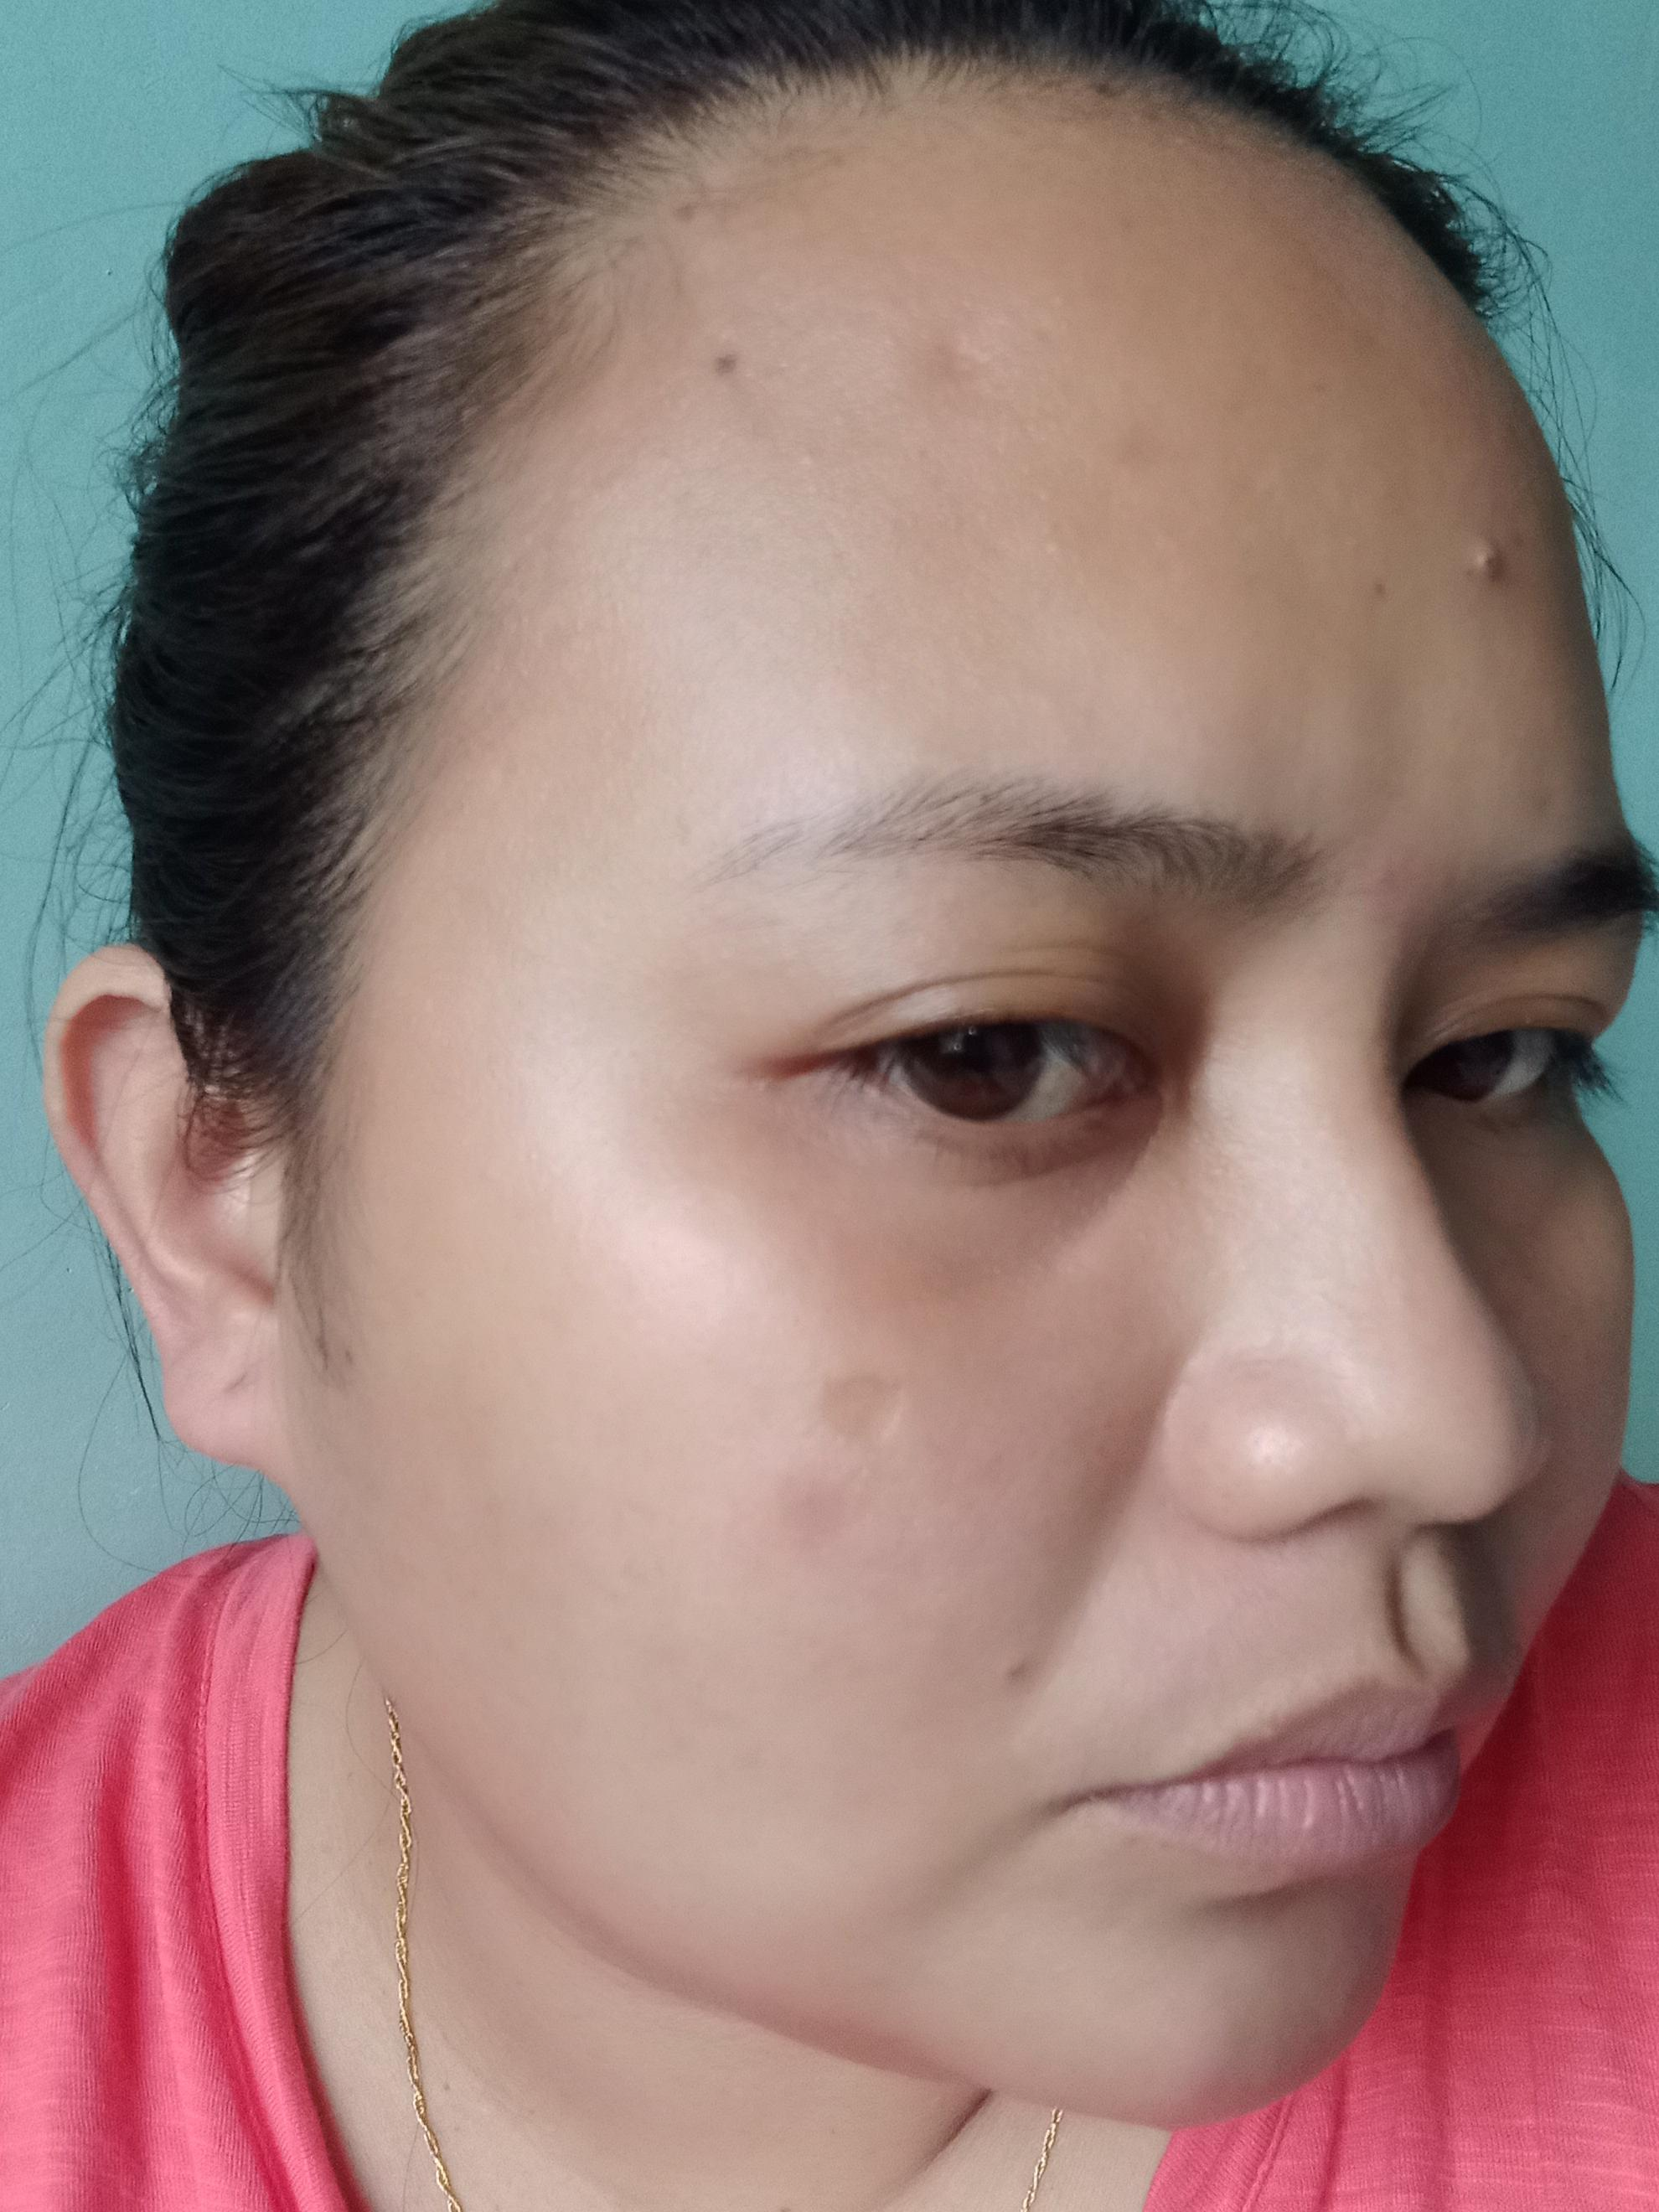Eyebags: (770, 1132, 1168, 1348), (1436, 1120, 1617, 1270)
